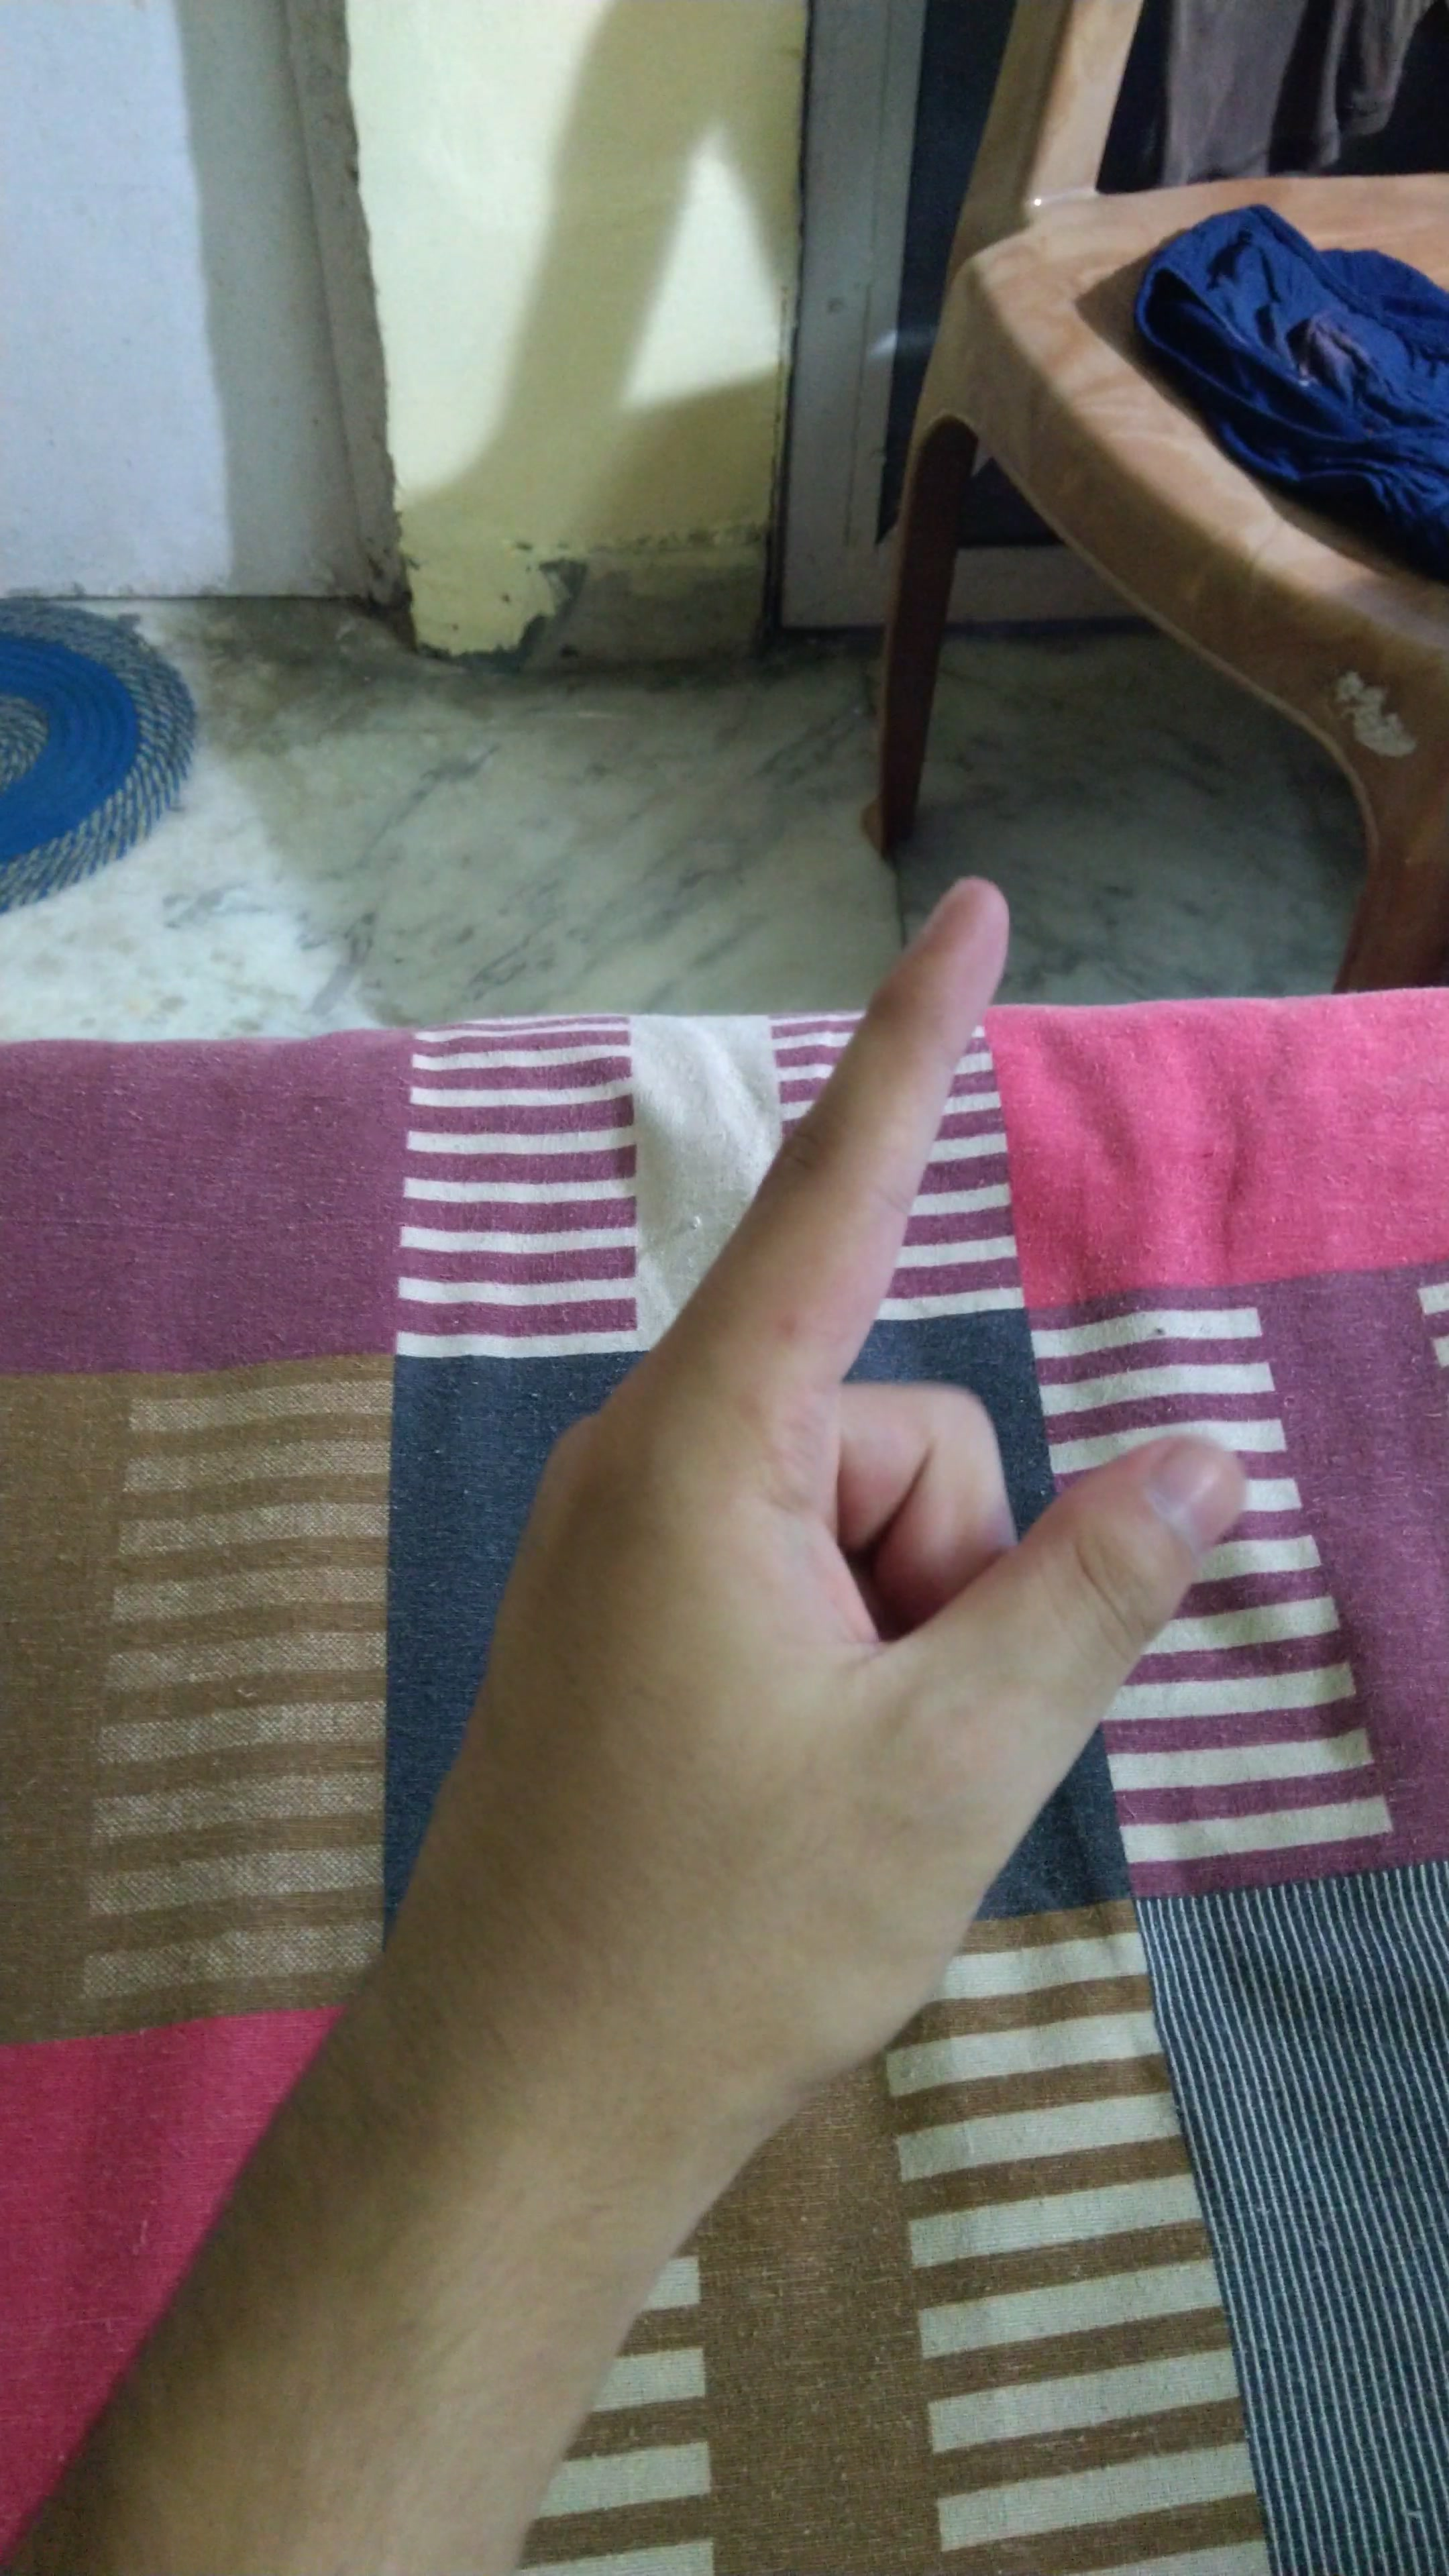hand: (326, 846, 1288, 2116)
